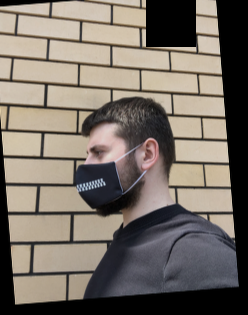with_mask: (74, 140, 123, 217)
